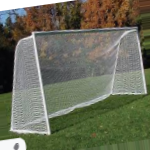goals: (8, 25, 149, 136)
